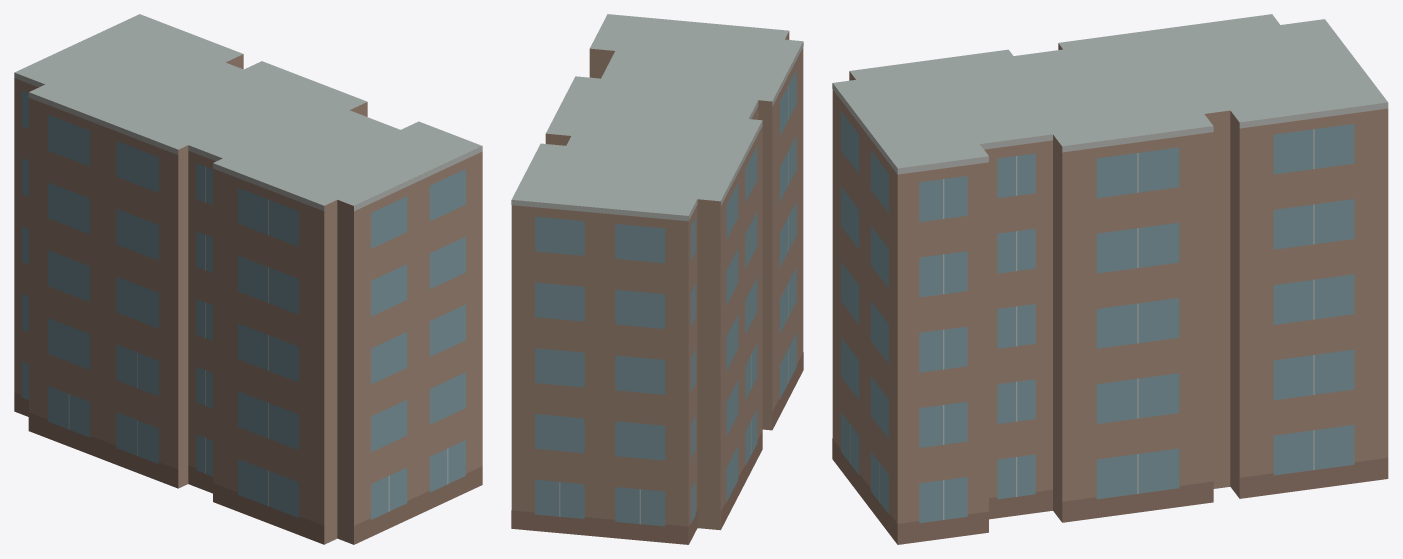
The model's file is survey-upis-32966091.glb.
3 views of the same model, side by side, from view 1: azimuth 30°, elevation 25°; view 2: azimuth 150°, elevation 25°; view 3: azimuth 270°, elevation 25° (orthographic). The views are drawn at different scales.
Visible parts, largest first — view 1: survey-upis-32966091.tmp; view 2: survey-upis-32966091.tmp; view 3: survey-upis-32966091.tmp.
Boxes of the visible parts, box(x1,y1,x2,y2) form: survey-upis-32966091.tmp: box(14, 14, 482, 544); survey-upis-32966091.tmp: box(511, 14, 803, 544); survey-upis-32966091.tmp: box(832, 14, 1388, 544).
Size of the model in its own units: 13.4 by 15.2 by 20.35.
